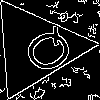Q: (11, 23, 80, 83)
